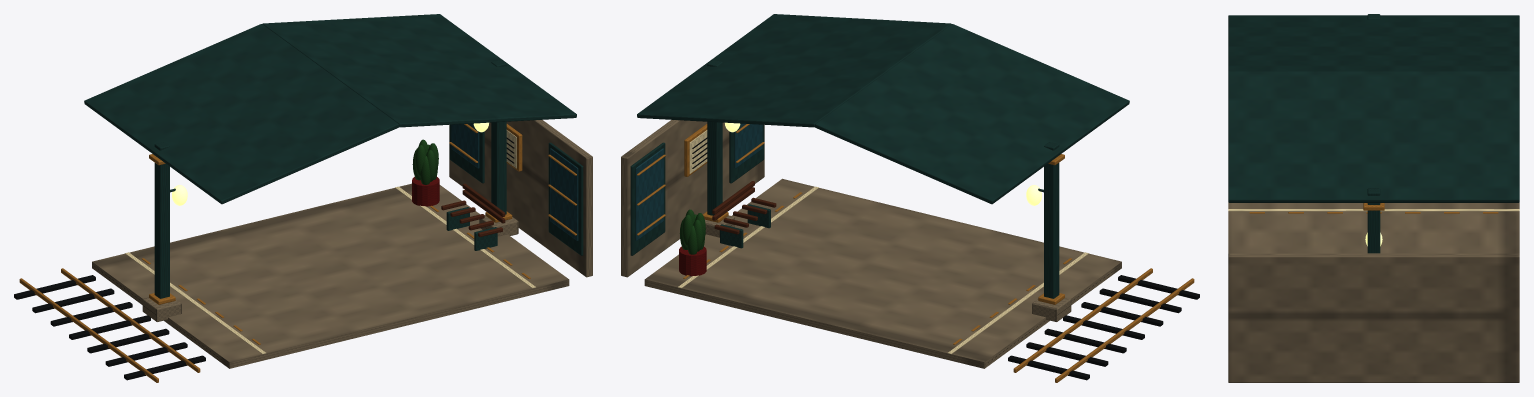
The model's file is station-bay-v1-B-i-xtH0.glb.
3 renders of one model, left to right at view 1: azimuth 30°, elevation 25°; view 2: azimuth 150°, elevation 25°; view 3: azimuth 270°, elevation 25°, orthographic. The views are drawn at different scales.
Parts seen in each view (by area): view 1: Fluted iron column, Platform paving, Timetable rows, Tactile edge stud, Window glass, Platform edge stripe, Bench seat slat, Plant foliage, Plant pot; view 2: Fluted iron column, Platform paving, Timetable rows, Tactile edge stud, Window glass, Platform edge stripe, Bench seat slat, Plant foliage, Plant pot; view 3: Fluted iron column, Platform paving, Platform edge stripe, Tactile edge stud.
Boxes of the visible parts, bbox=[...] form: Fluted iron column: bbox=[84, 14, 583, 298]; Platform paving: bbox=[92, 120, 592, 368]; Timetable rows: bbox=[14, 137, 514, 380]; Tactile edge stud: bbox=[19, 124, 576, 382]; Window glass: bbox=[451, 123, 578, 240]; Platform edge stripe: bbox=[125, 130, 535, 354]; Bench seat slat: bbox=[441, 183, 505, 236]; Plant foliage: bbox=[412, 139, 438, 184]; Plant pot: bbox=[412, 177, 439, 206]; Fluted iron column: bbox=[630, 14, 1129, 298]; Platform paving: bbox=[621, 120, 1121, 368]; Timetable rows: bbox=[692, 137, 1199, 380]; Tactile edge stud: bbox=[637, 124, 1194, 382]; Window glass: bbox=[635, 123, 762, 240]; Platform edge stripe: bbox=[678, 130, 1088, 354]; Bench seat slat: bbox=[712, 181, 776, 234]; Plant foliage: bbox=[679, 209, 705, 254]; Plant pot: bbox=[679, 246, 706, 276]; Fluted iron column: bbox=[1228, 14, 1519, 253]; Platform paving: bbox=[1228, 202, 1519, 382]; Platform edge stripe: bbox=[1228, 209, 1519, 211]; Tactile edge stud: bbox=[1249, 203, 1498, 213].
Bounding box in the file's own units: 14.31 × 6.12 × 7.5.
Materials: 10 (10 with a texture image).
